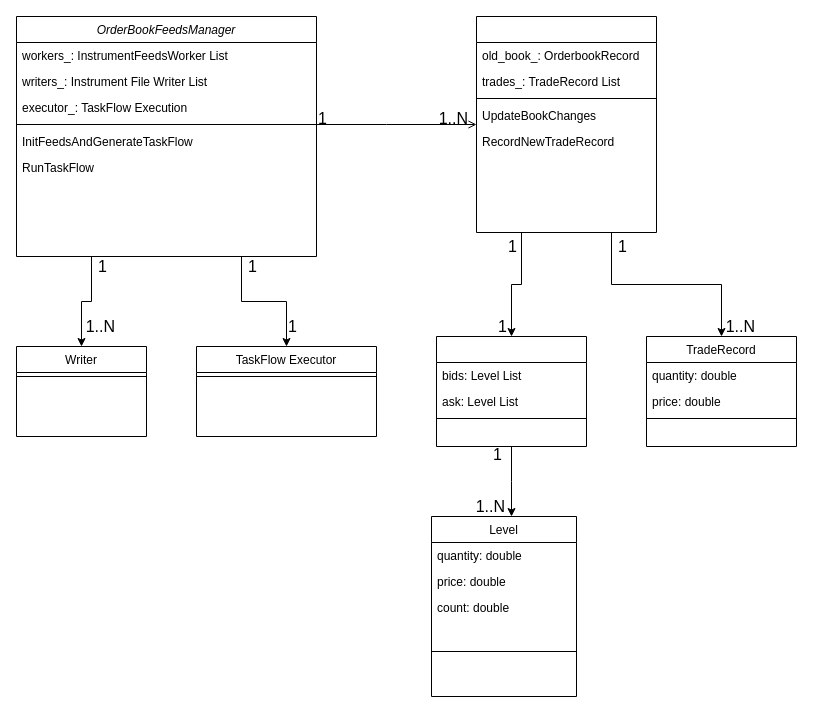
This 813x713 diagram has some shape labels left out. The shapes that lost their labels are listed below. From the top down, each one's box as (x1, y1, x2, y2) in pixels, then its label:
(476, 16, 656, 232): InstrumentFeedsWorker
(436, 336, 586, 446): OrderBookRecord
